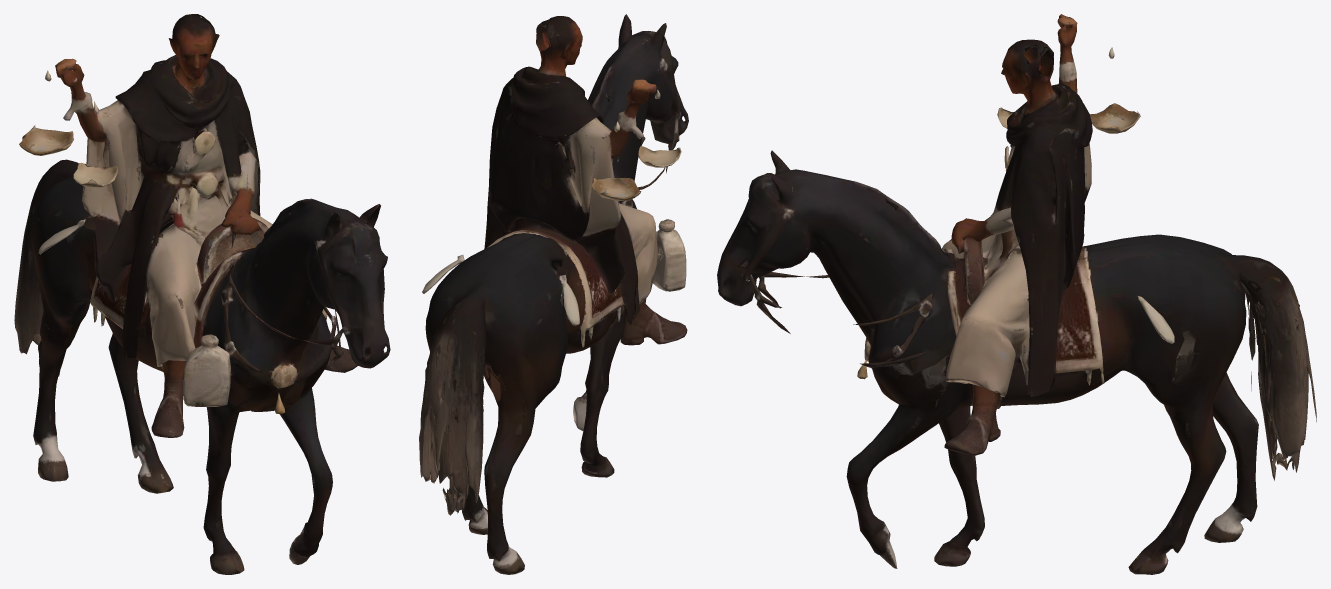
Rendered from horseBlack.glb.
The picture shows the model from 3 angles, left to right: view 1: azimuth 30°, elevation 25°; view 2: azimuth 150°, elevation 25°; view 3: azimuth 270°, elevation 25°; orthographic projection. The views are drawn at different scales.
Visible parts, largest first — view 1: geometry_0; view 2: geometry_0; view 3: geometry_0.
Boxes of the visible parts, x1=… form: geometry_0: x1=14, y1=14, x2=390, y2=574; geometry_0: x1=419, y1=14, x2=688, y2=574; geometry_0: x1=717, y1=14, x2=1316, y2=574.
Size of the model in its own units: 0.5043 by 0.9521 by 0.9913.
Materials: 1 (1 with a texture image).
